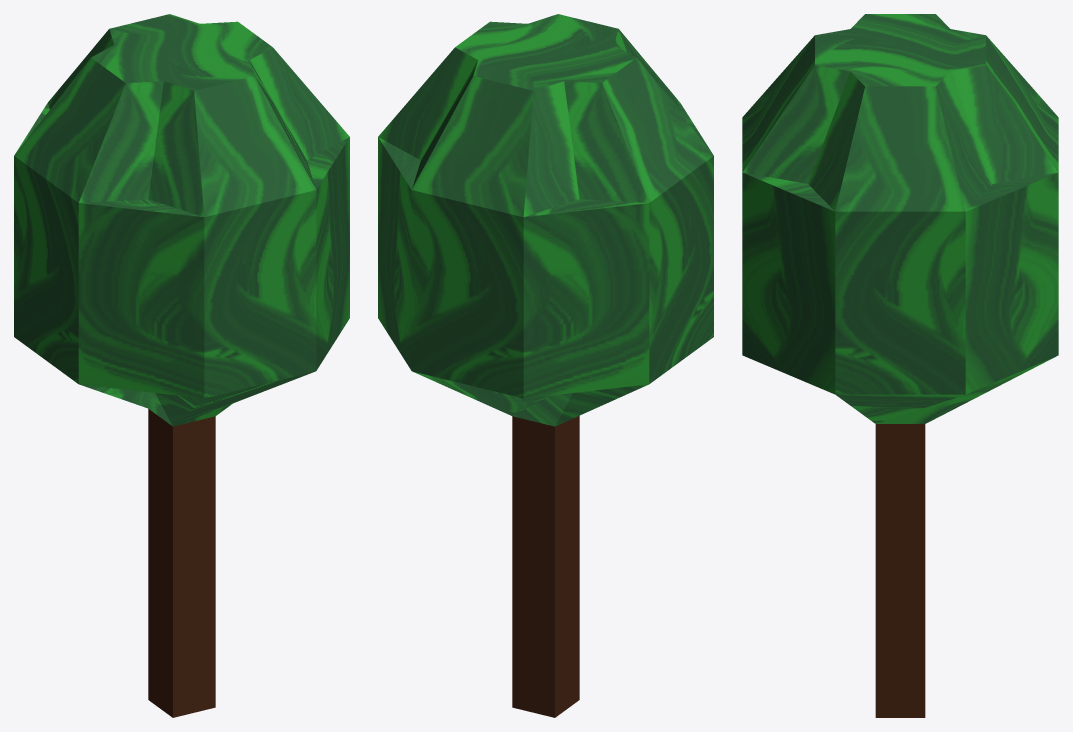
File: cool tree.fbx
3 renders of one model, left to right at view 1: azimuth 30°, elevation 25°; view 2: azimuth 150°, elevation 25°; view 3: azimuth 270°, elevation 25°, orthographic.
Visible parts, largest first — view 1: cool tree; view 2: cool tree; view 3: cool tree.
Boxes of the visible parts, box(x1,y1,x2,y2) form: cool tree: box(14, 14, 349, 717); cool tree: box(378, 14, 713, 717); cool tree: box(742, 14, 1058, 717).
Bounding box in the file's own units: 416 × 954 × 416.
